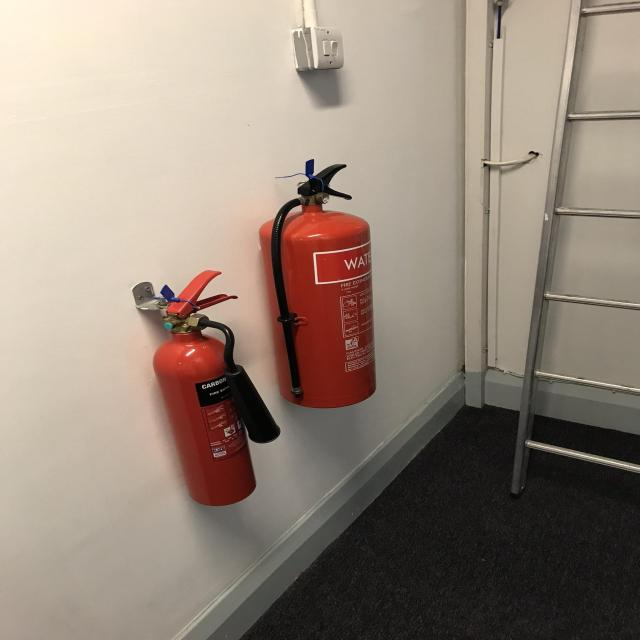fire_extinguisher: (148, 266, 286, 509), (254, 161, 386, 411)
